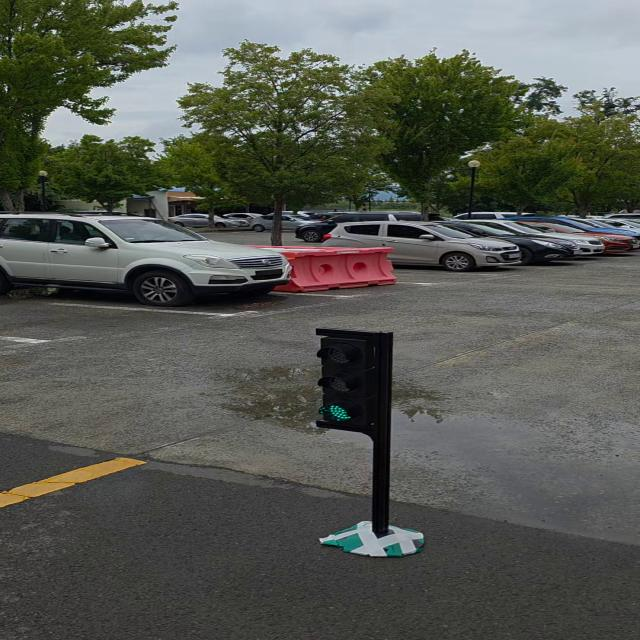green: (314, 329, 393, 433)
